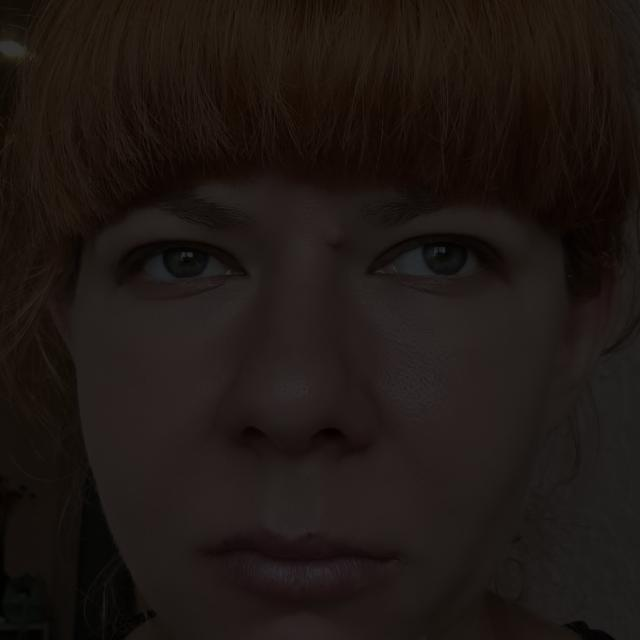angry: (33, 105, 569, 640)
